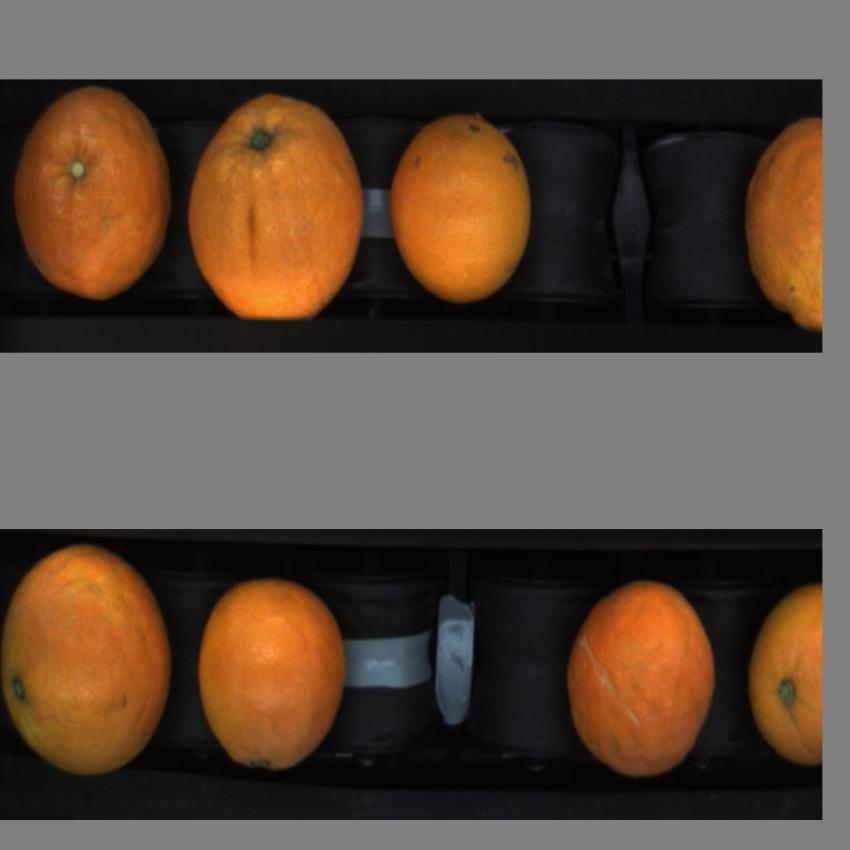Buen estado: (1, 544, 178, 777), (559, 564, 726, 784), (190, 572, 350, 783), (385, 107, 540, 306), (749, 577, 822, 763)
Mal estado: (185, 80, 369, 324), (10, 82, 177, 308), (740, 111, 822, 336)
